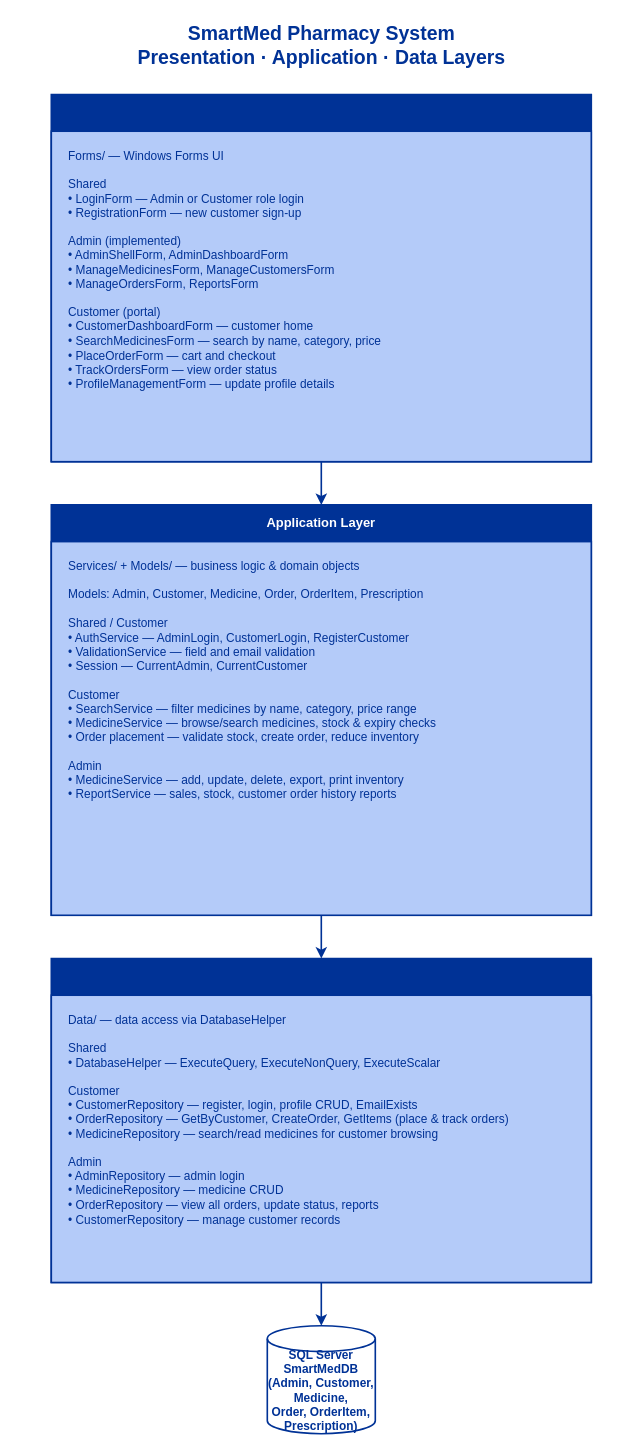
Image size: 642x1453. Some labels were removed from this diagram. Each missing label, with the box of its shape:
Data Layer: (50, 957, 592, 1283)
Presentation Layer: (50, 93, 592, 462)
